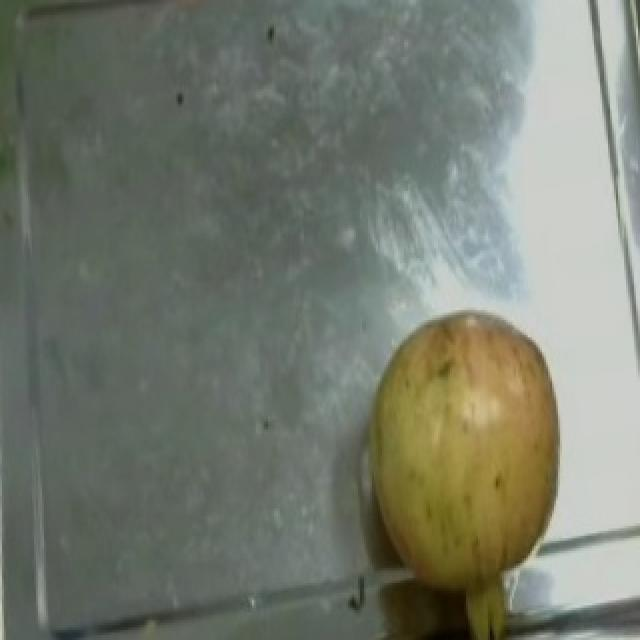fruit: (350, 290, 580, 509)
